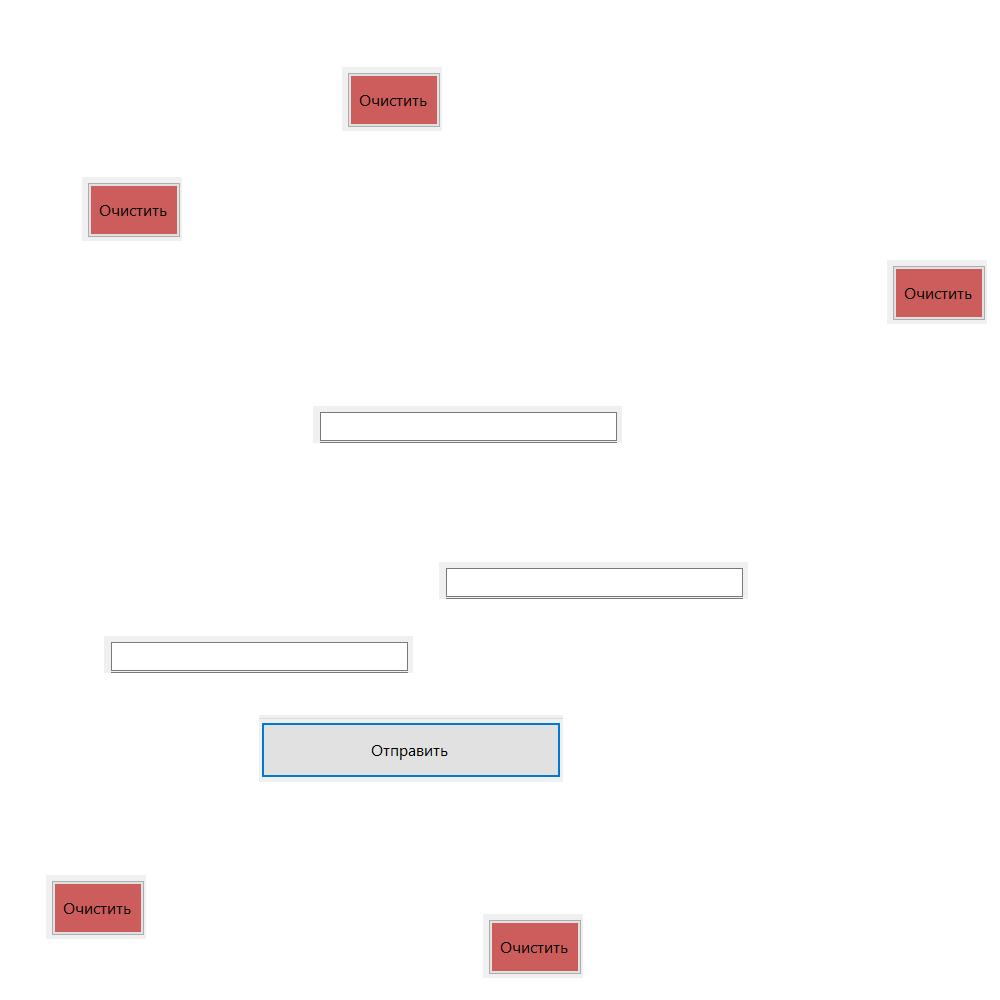Button: (259, 715, 563, 782), (483, 914, 583, 978), (82, 177, 182, 241), (46, 875, 146, 939), (887, 260, 987, 324), (342, 67, 442, 131)
EditText-: (439, 562, 748, 599), (313, 406, 622, 443), (104, 636, 413, 673)
